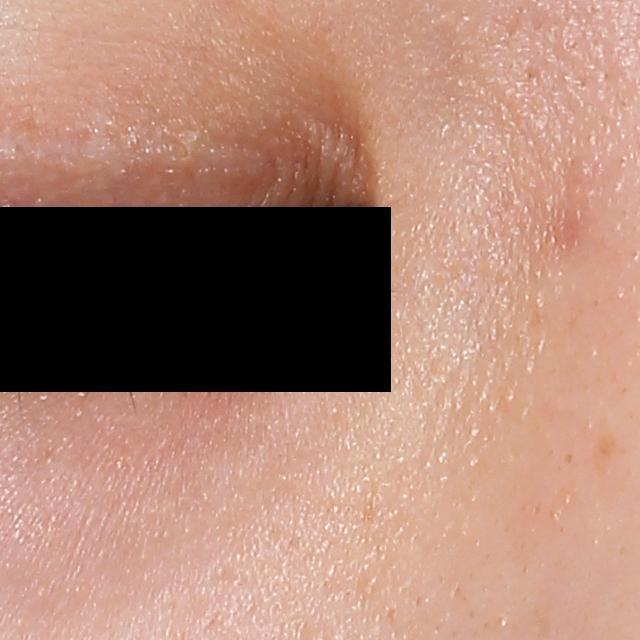melasma: (586, 433, 621, 475)
